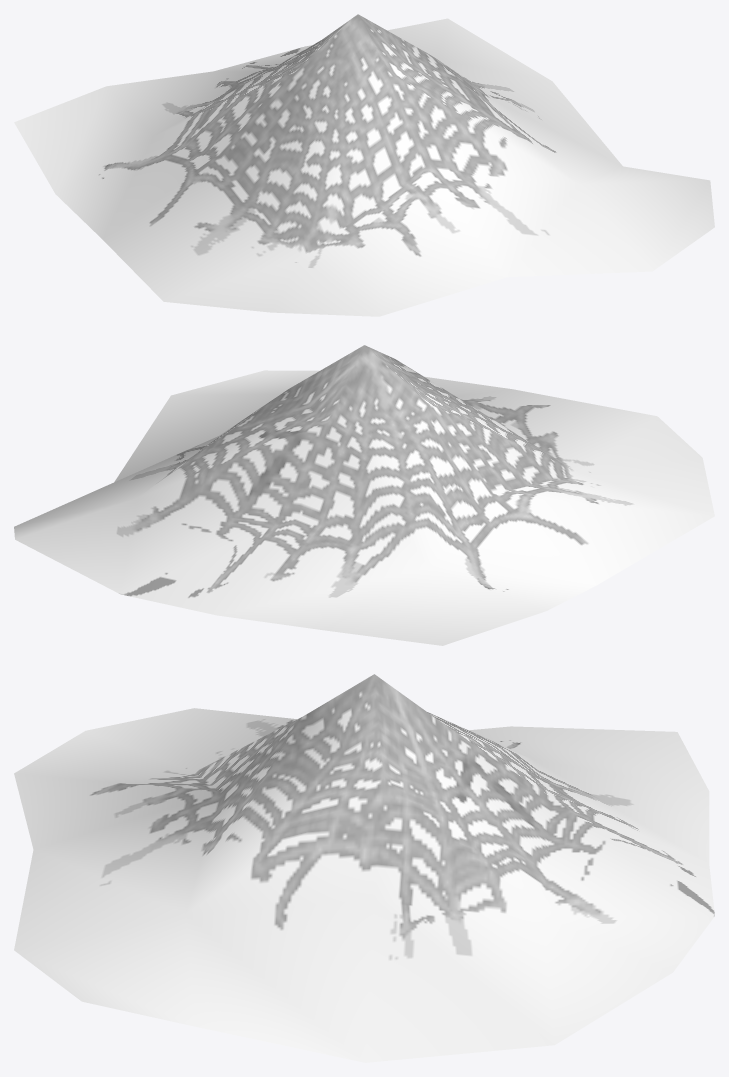
File: zhizhuwang.FBX
3 renders of one model, top to bottom at view 1: azimuth 30°, elevation 25°; view 2: azimuth 150°, elevation 25°; view 3: azimuth 270°, elevation 25°, orthographic. The views are drawn at different scales.
Visible parts, largest first — view 1: zhizhuwang; view 2: zhizhuwang; view 3: zhizhuwang.
Boxes of the visible parts, x1,y1,x2,y2 form: zhizhuwang: [14, 14, 714, 316]; zhizhuwang: [14, 345, 714, 645]; zhizhuwang: [14, 674, 714, 1062].
Bounding box in the file's own units: 157 × 153 × 58.6.
1 material, 1 textured.
